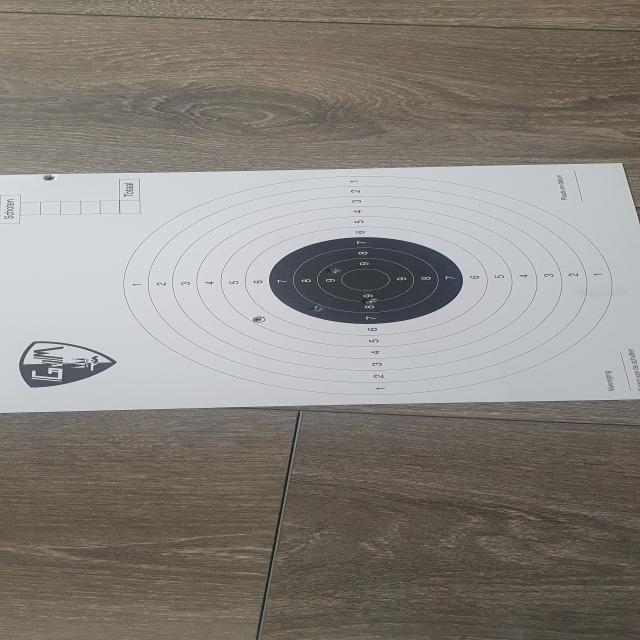0: (42, 174, 58, 182)
5: (248, 315, 270, 325)
7: (308, 305, 324, 313)
9: (324, 266, 342, 274), (359, 297, 378, 304)
Target: (121, 175, 616, 396)
black_contour: (268, 237, 464, 324)
